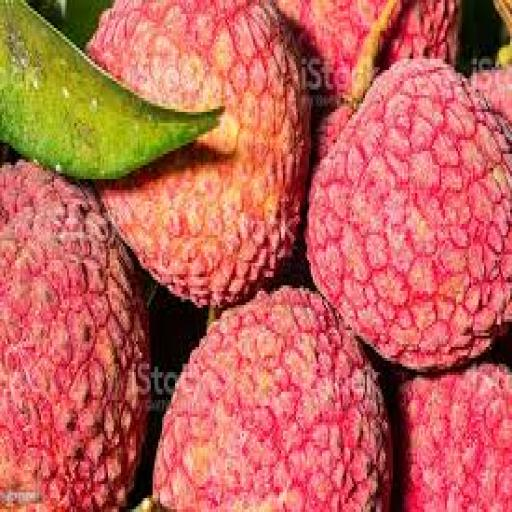lychee: (90, 0, 309, 307), (308, 59, 511, 369), (153, 289, 390, 511), (0, 163, 148, 511), (397, 364, 511, 511), (278, 0, 389, 103), (313, 104, 353, 162), (472, 68, 511, 125)
